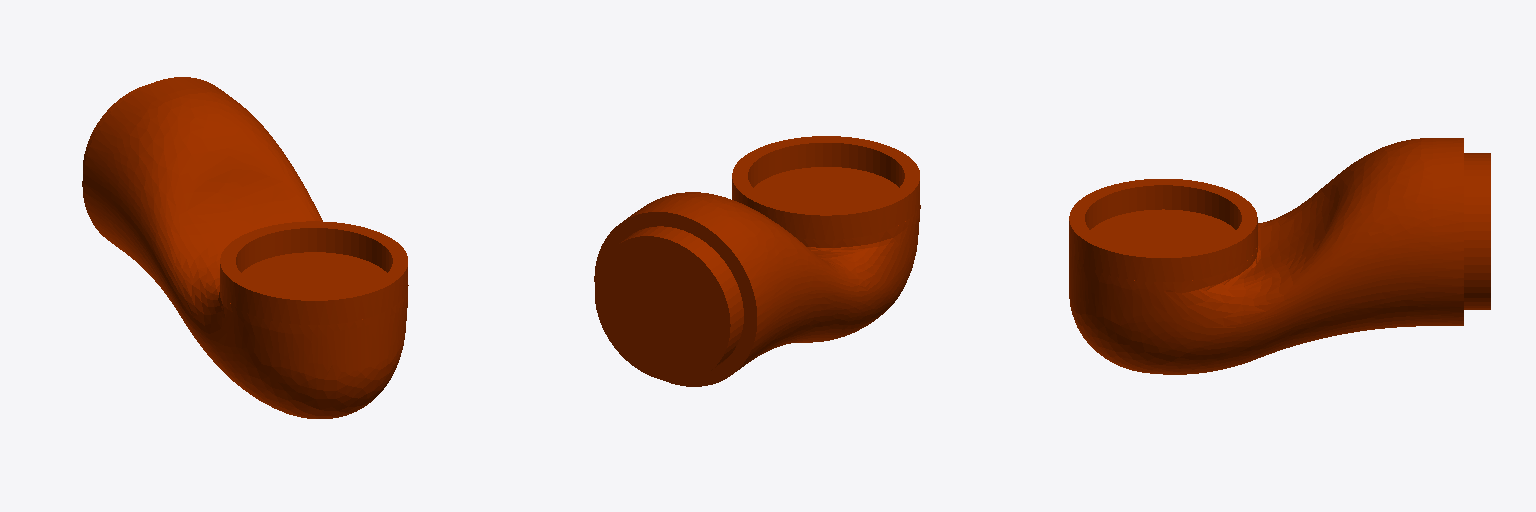
The picture shows the model from 3 angles: view 1: azimuth 30°, elevation 25°; view 2: azimuth 150°, elevation 25°; view 3: azimuth 270°, elevation 25°; orthographic projection.
Parts seen in each view (by area): view 1: /ambf/env/link1_link1.001; view 2: /ambf/env/link1_link1.001; view 3: /ambf/env/link1_link1.001.
Part boxes in pixels (x1,y1,x2,y2): /ambf/env/link1_link1.001: (82,77,408,418); /ambf/env/link1_link1.001: (594,136,920,386); /ambf/env/link1_link1.001: (1069,138,1490,374).
Size of the model in its own units: 0.12 by 0.1538 by 0.2685.